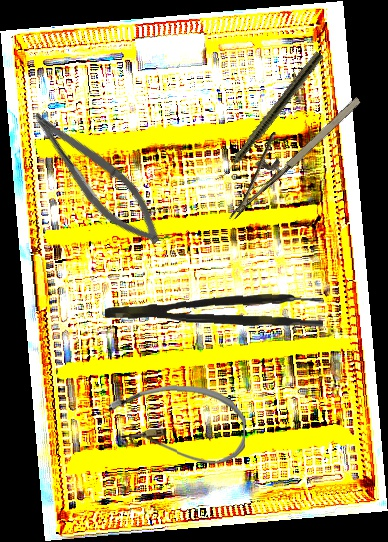Cannula: (107, 384, 247, 465)
Handpiece: (213, 49, 325, 187)
Micro Scissor: (15, 102, 176, 256)
Needle Holder: (205, 76, 365, 222)
Tissue Forceps: (104, 287, 325, 329)
